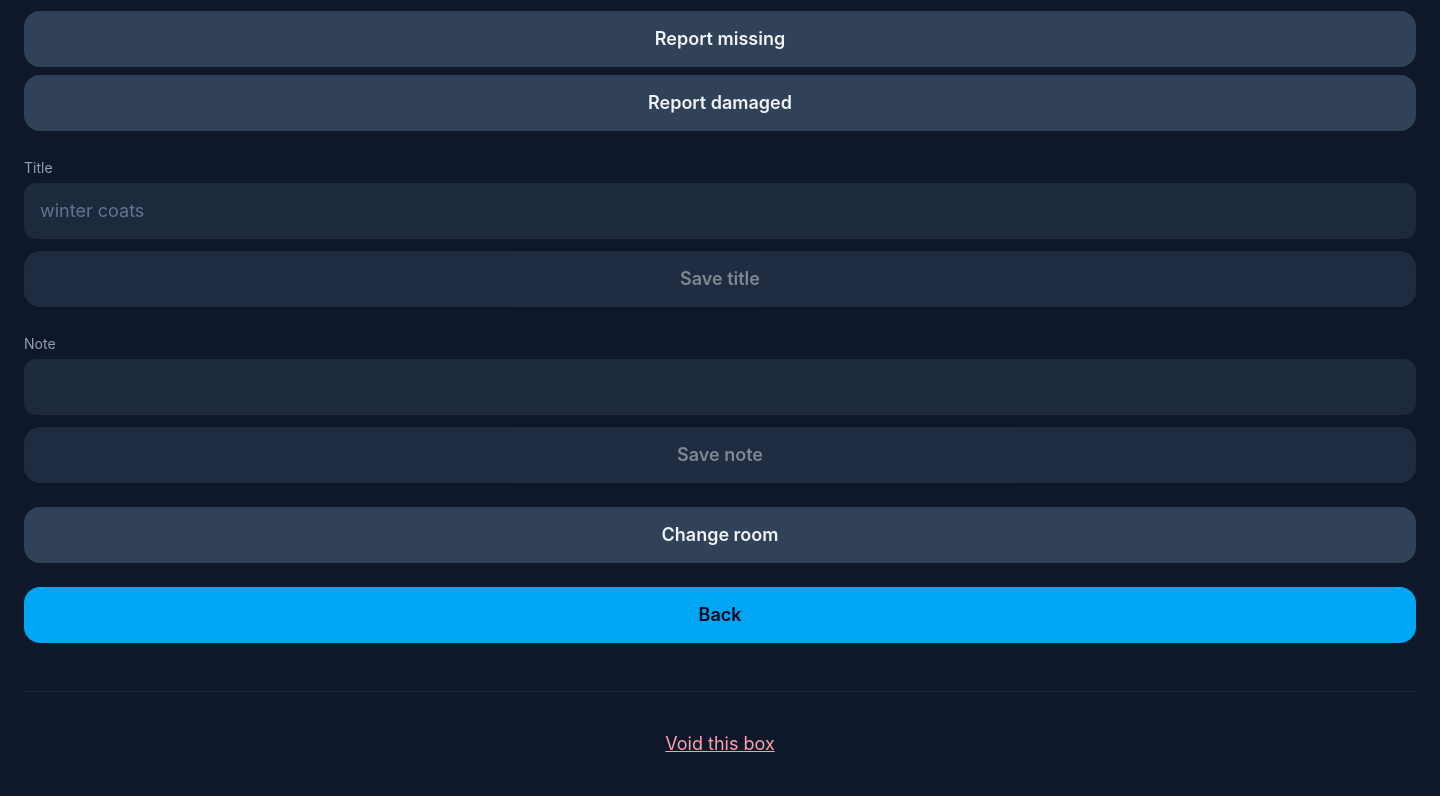
removing a box › says the number is retired before voiding
(page scrolled)
Click the button "Void this box": click(720, 744) [24,716,1416,772]
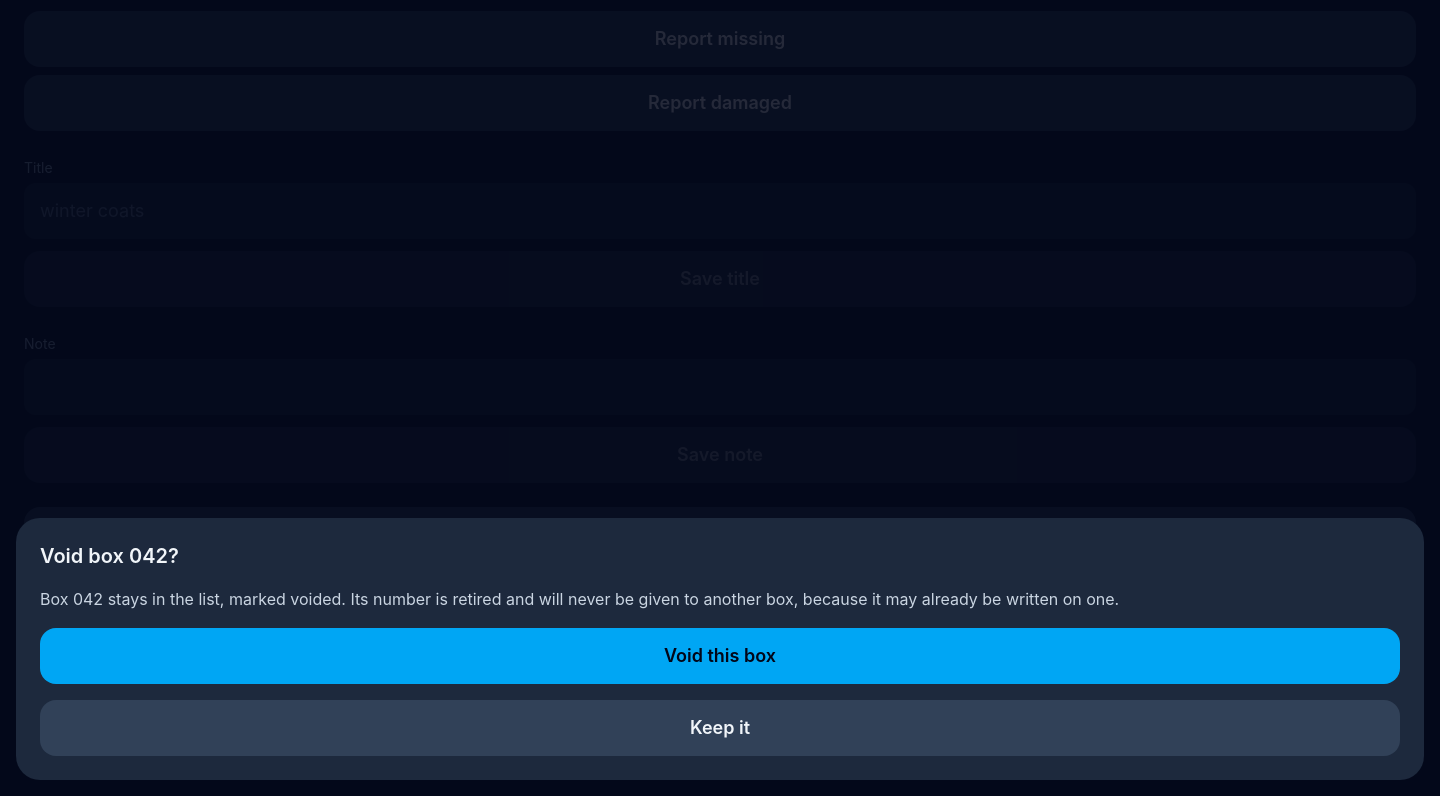
Check: the text "never be given to another box" is shown, box [40,589,1119,609]
